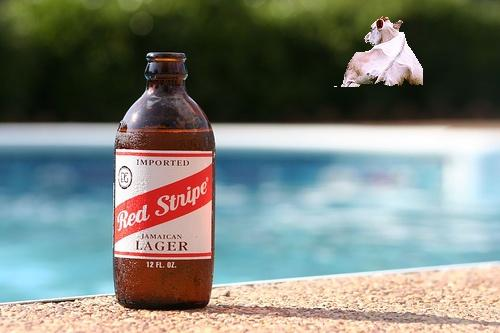tampered: (335, 17, 423, 87)
